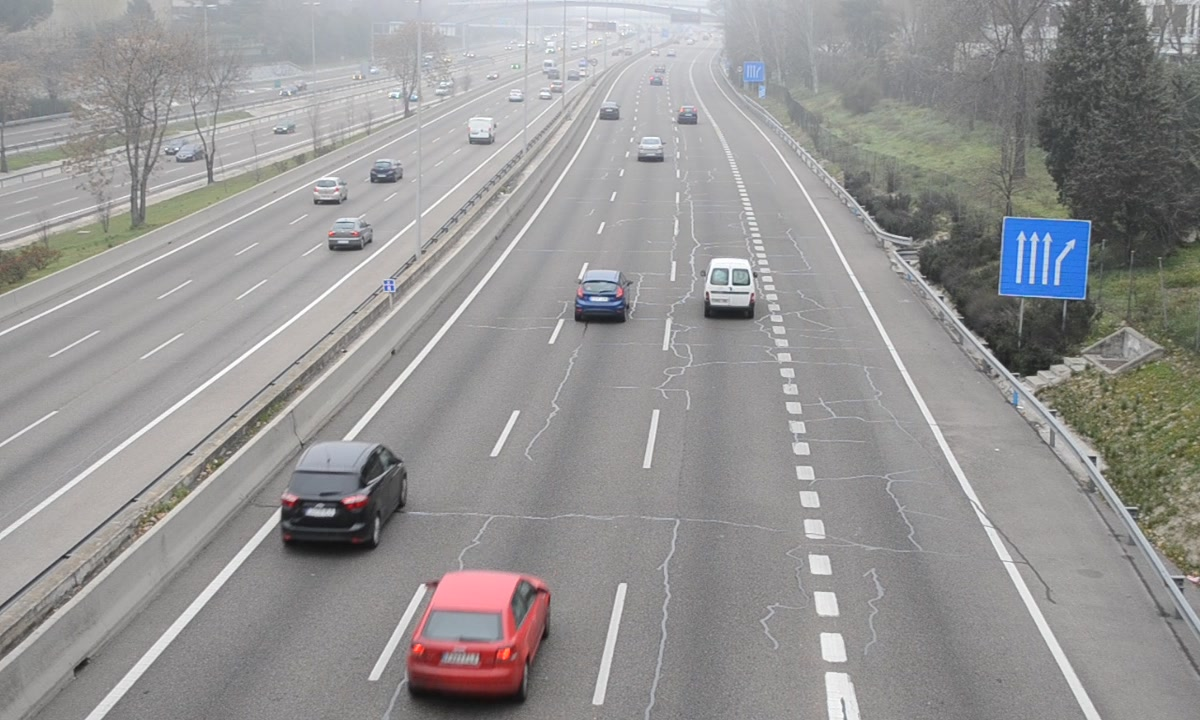car: (406, 573, 546, 695), (282, 442, 406, 545), (575, 269, 630, 320), (636, 136, 665, 162), (598, 99, 621, 122), (675, 104, 698, 126)
van: (706, 258, 755, 315)
